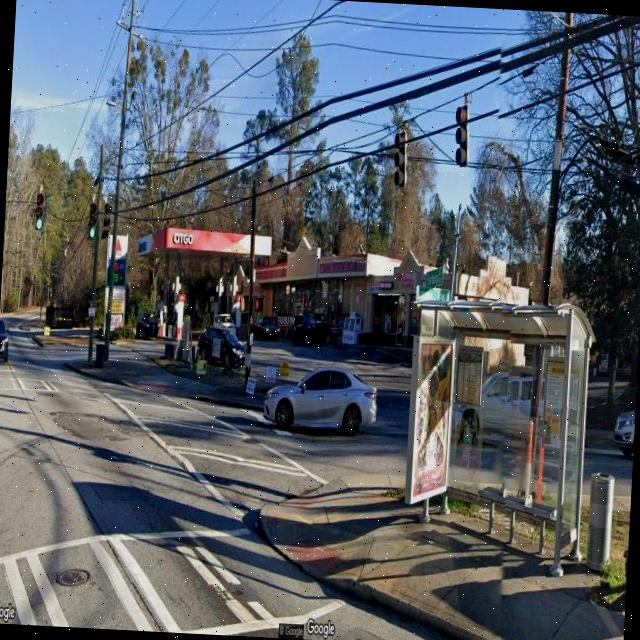seating: (478, 489, 556, 554)
shelter: (402, 293, 596, 572)
trash_can: (584, 471, 616, 573)
